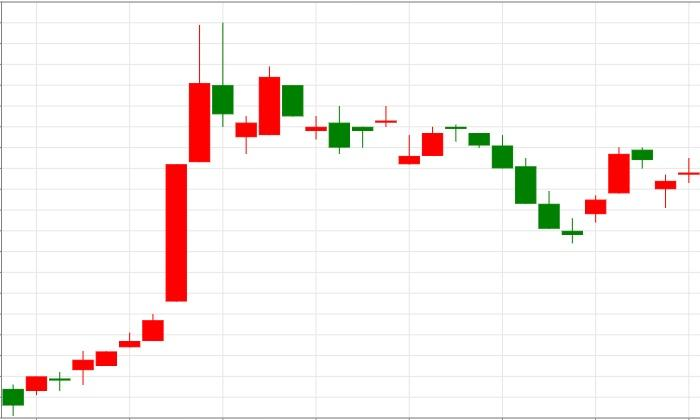shooting_star_fall: (2, 23, 234, 417)
three_black_crows_fall: (398, 124, 514, 168)
